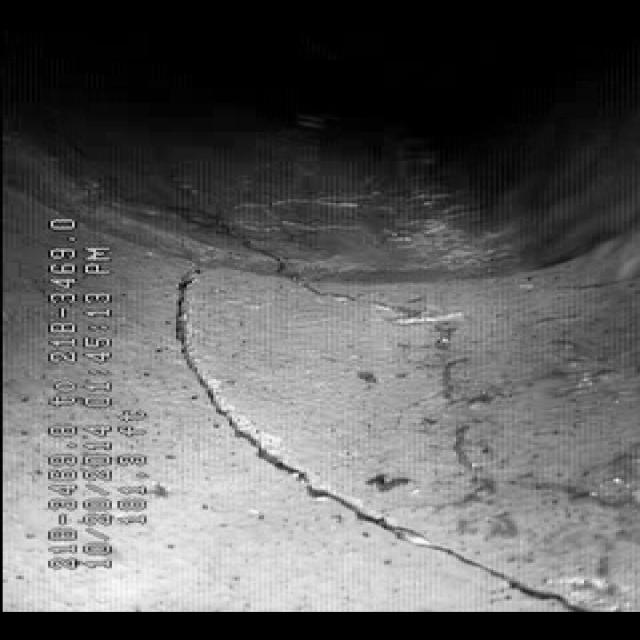Crack: (169, 279, 581, 596)
